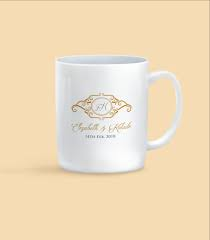mug: (51, 53, 187, 181)
